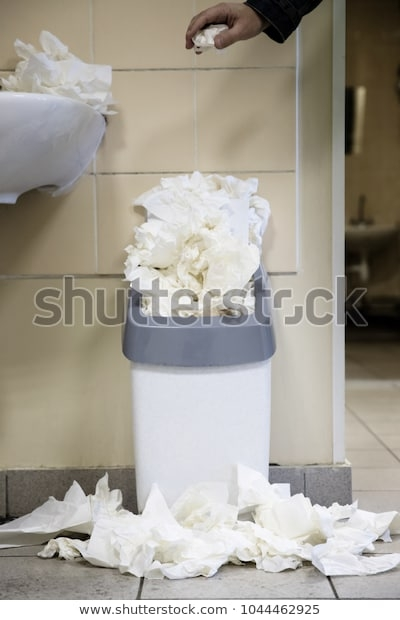paper: (111, 162, 285, 319), (7, 467, 138, 569), (3, 18, 131, 111), (131, 476, 231, 593), (73, 491, 153, 587), (206, 511, 310, 580), (297, 519, 400, 578), (213, 456, 311, 516), (300, 494, 398, 542)
